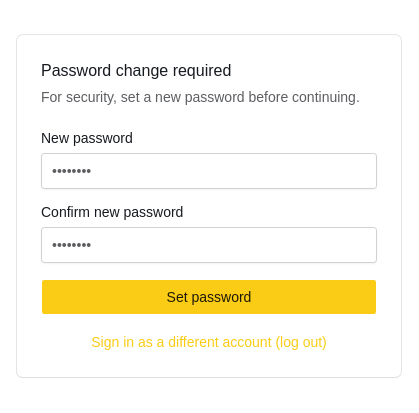
Test case: ForcePasswordChangePage › shows an error when passwords do not match
In the password field with test id "force-new-password-input": (209, 171) [41,153,377,189], type "password123"
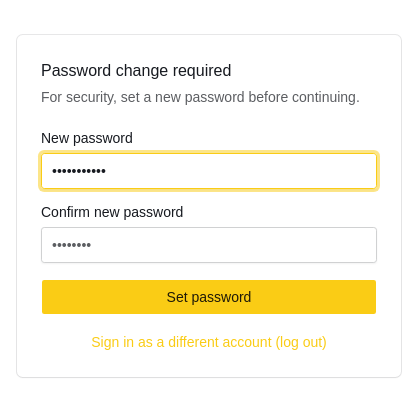
In the password field with test id "force-confirm-password-input": (209, 245) [41,227,377,263], type "different123"
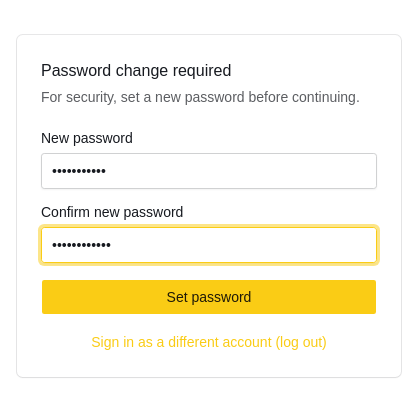
Click the button with test id "force-password-submit": (209, 297) [41,279,377,315]
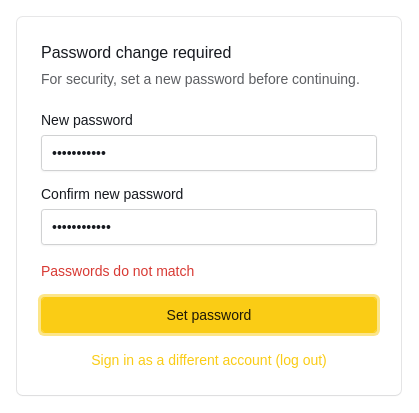
Expected: the text "Passwords do not match" is shown, [41,263,194,279]
